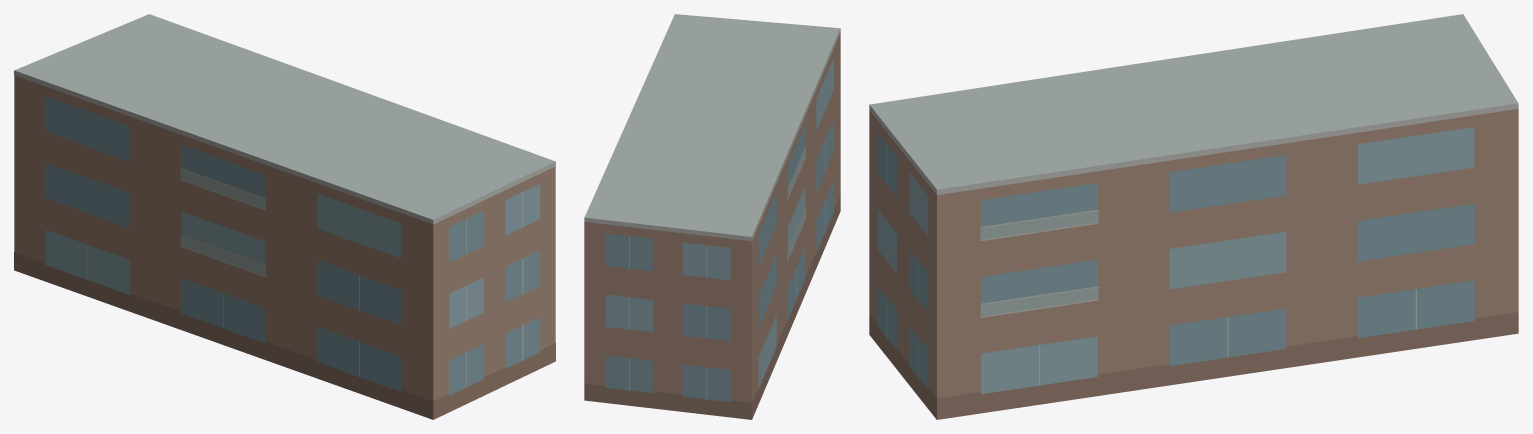
The model's file is survey-upis-32969843.glb.
3 views of the same model, side by side, from view 1: azimuth 30°, elevation 25°; view 2: azimuth 150°, elevation 25°; view 3: azimuth 270°, elevation 25° (orthographic). The views are drawn at different scales.
Parts seen in each view (by area): view 1: survey-upis-32969843.tmp; view 2: survey-upis-32969843.tmp; view 3: survey-upis-32969843.tmp.
Part boxes in pixels (left/top/right/bottom): survey-upis-32969843.tmp: left=14, top=14, right=555, bottom=419; survey-upis-32969843.tmp: left=584, top=14, right=840, bottom=419; survey-upis-32969843.tmp: left=869, top=14, right=1518, bottom=419.
Size of the model in its own units: 16.88 by 10.3 by 26.34.
